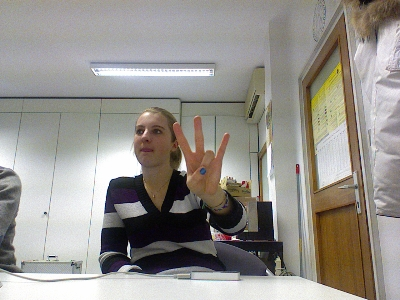观音: (170, 113, 231, 198)
